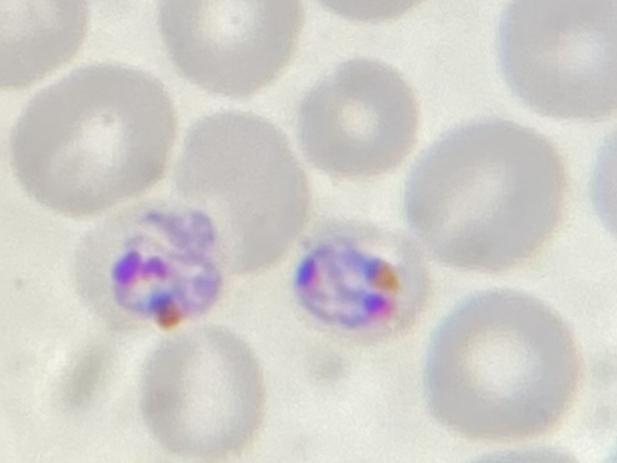Infected: (71, 198, 232, 335), (281, 215, 435, 344)
Uninfected: (399, 120, 570, 275), (421, 288, 585, 443), (10, 65, 181, 212), (179, 110, 304, 280), (143, 318, 266, 460), (160, 0, 308, 99), (299, 54, 422, 173)
